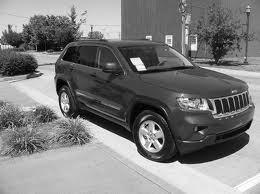car: (54, 42, 257, 165)
